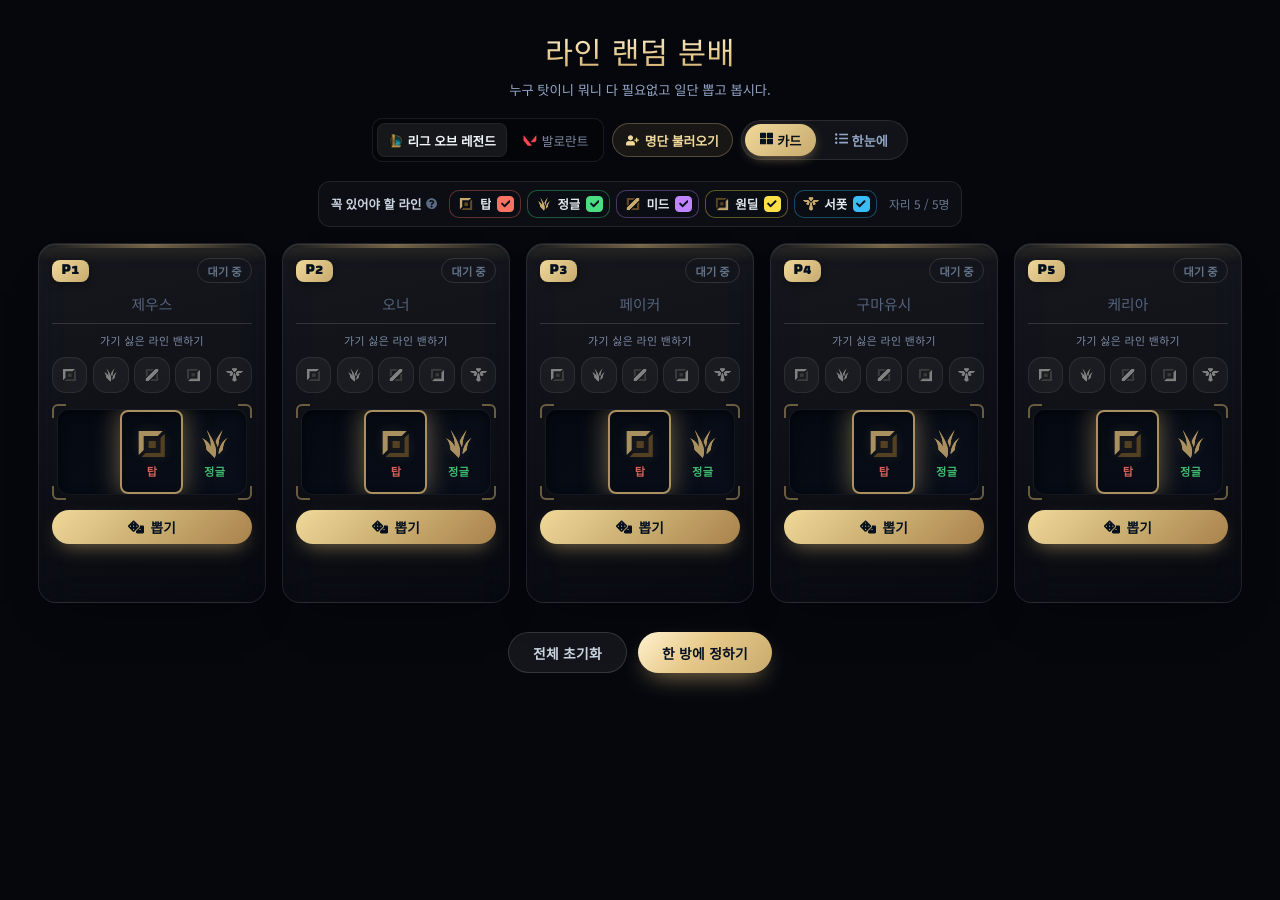
Scenario: 목록 뷰에서도 라인을 뽑을 수 있다
Step 1. Click the button "한눈에" → (861, 140), box left=820, top=124, right=903, bottom=156
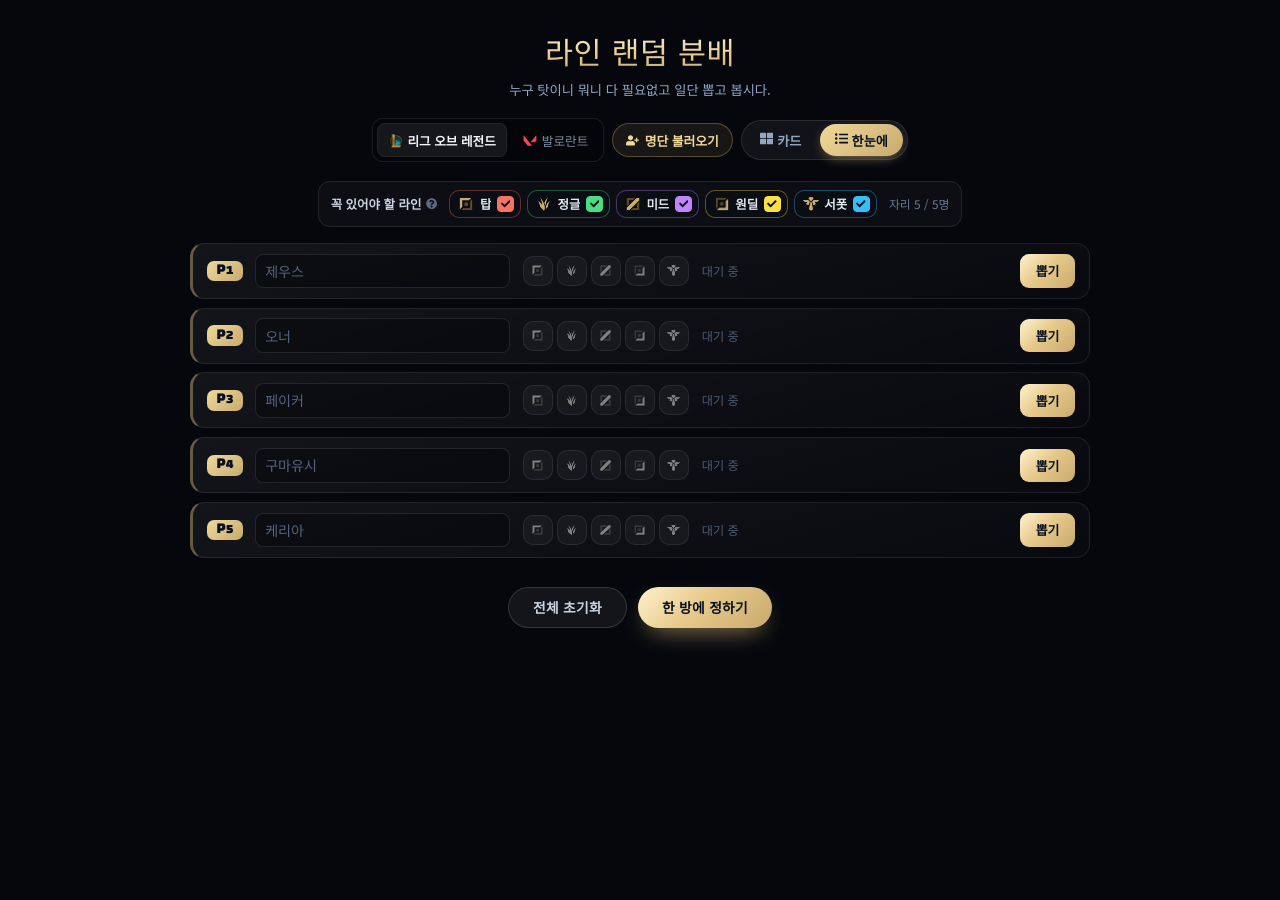
Step 2. Click the button with class "assign" → (1047, 271), box left=1020, top=254, right=1075, bottom=288
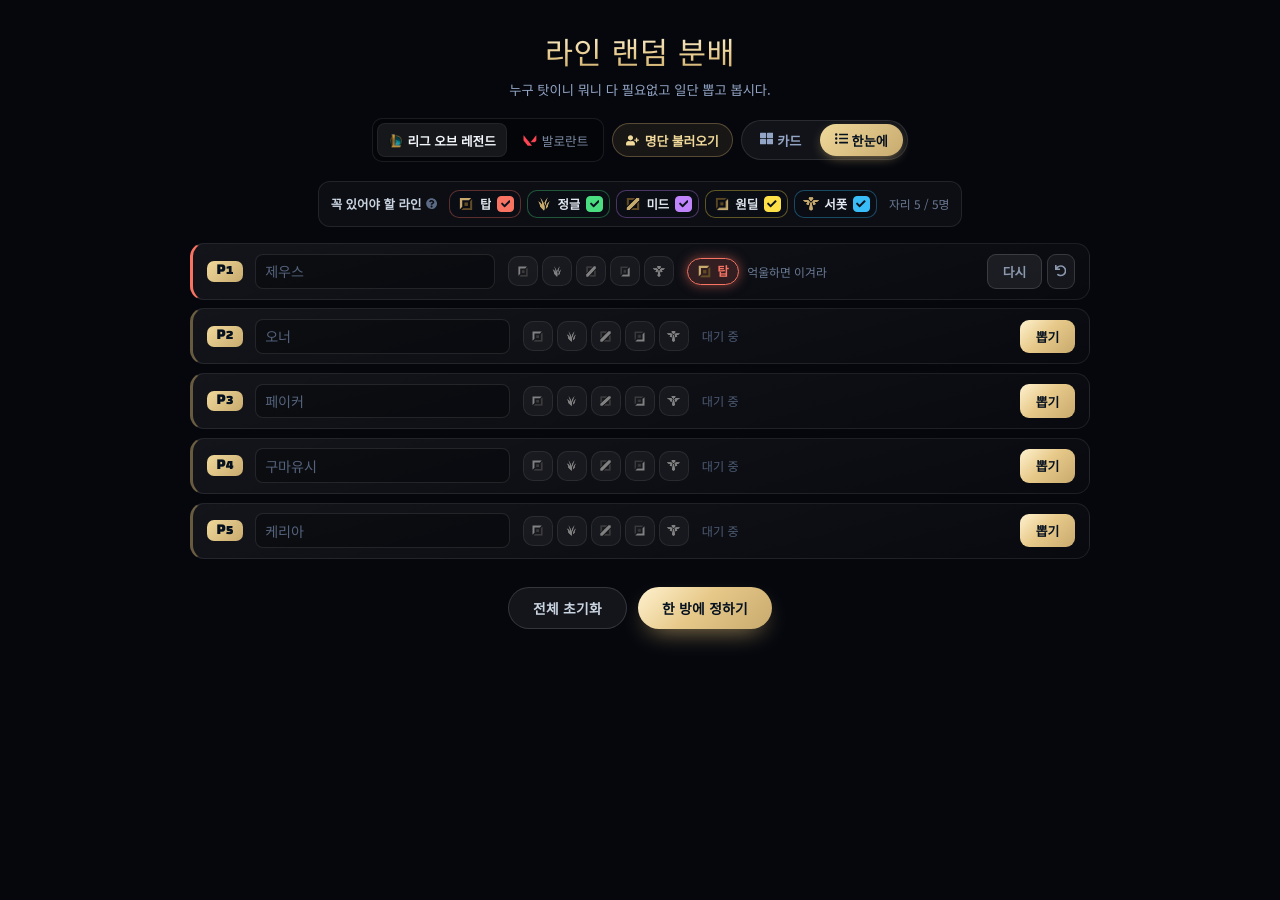
Expected: the element with class "lineTag" is shown, left=687, top=258, right=739, bottom=285
